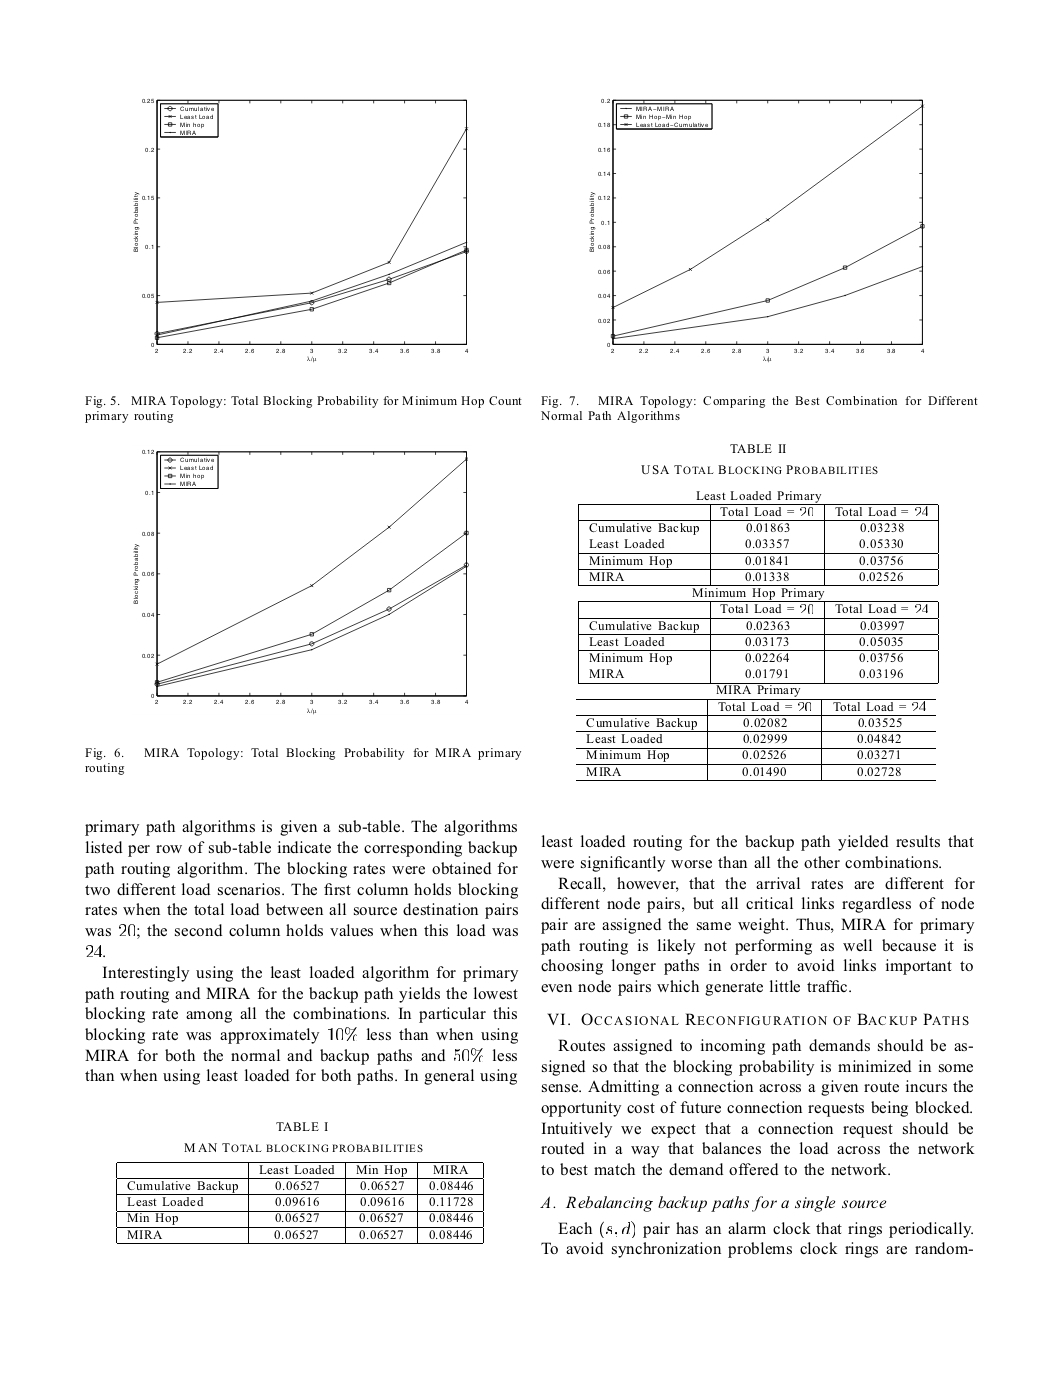Table: (576, 490, 938, 781), (116, 1161, 483, 1244)
figure: (133, 97, 468, 353), (133, 448, 468, 704), (588, 97, 924, 353)
